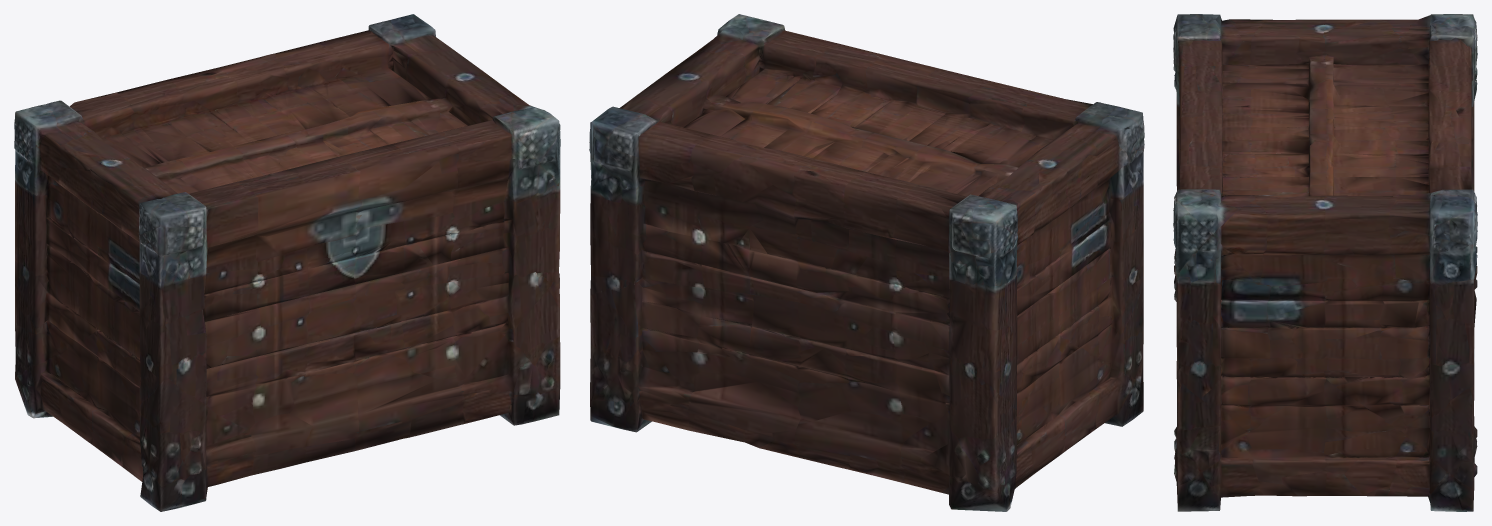
Rendered from supply_crate.glb.
3 views of the same model, side by side, from view 1: azimuth 30°, elevation 25°; view 2: azimuth 150°, elevation 25°; view 3: azimuth 270°, elevation 25° (orthographic).
Size of the model in its own units: 1.9 by 1.33 by 1.21.
Materials: 1 (1 with a texture image).
